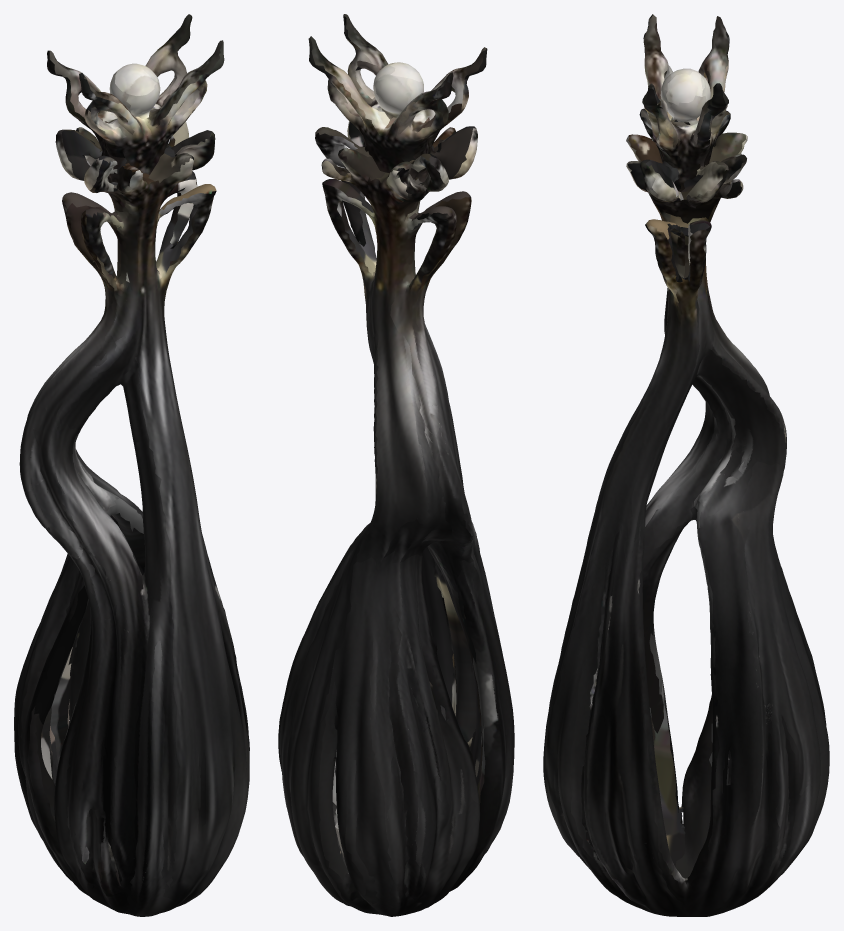
3 views of the same model, side by side, from view 1: azimuth 30°, elevation 25°; view 2: azimuth 150°, elevation 25°; view 3: azimuth 270°, elevation 25° (orthographic).
Visible parts, largest first — view 1: tmpx6x56rc9.ply; view 2: tmpx6x56rc9.ply; view 3: tmpx6x56rc9.ply.
Part boxes in pixels (left/top/right/bottom): tmpx6x56rc9.ply: left=14, top=14, right=249, bottom=916; tmpx6x56rc9.ply: left=278, top=14, right=514, bottom=916; tmpx6x56rc9.ply: left=543, top=14, right=829, bottom=916.
Size of the model in its own units: 0.3365 by 1.5 by 0.4537.
1 material, 1 textured.
